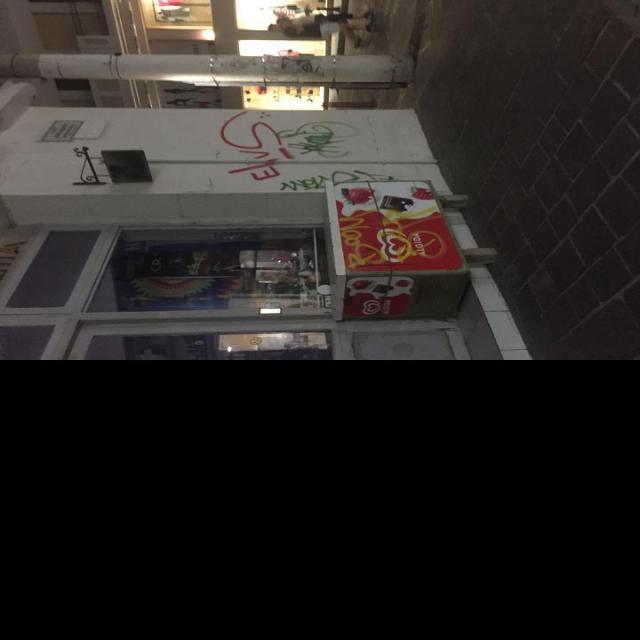nonspitting: (340, 209, 446, 268), (221, 111, 295, 181), (277, 120, 360, 158), (280, 170, 384, 192)
